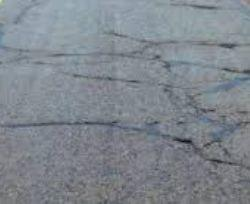alligator-crack: (0, 27, 250, 175)
crack: (159, 0, 248, 20), (6, 0, 50, 23)
